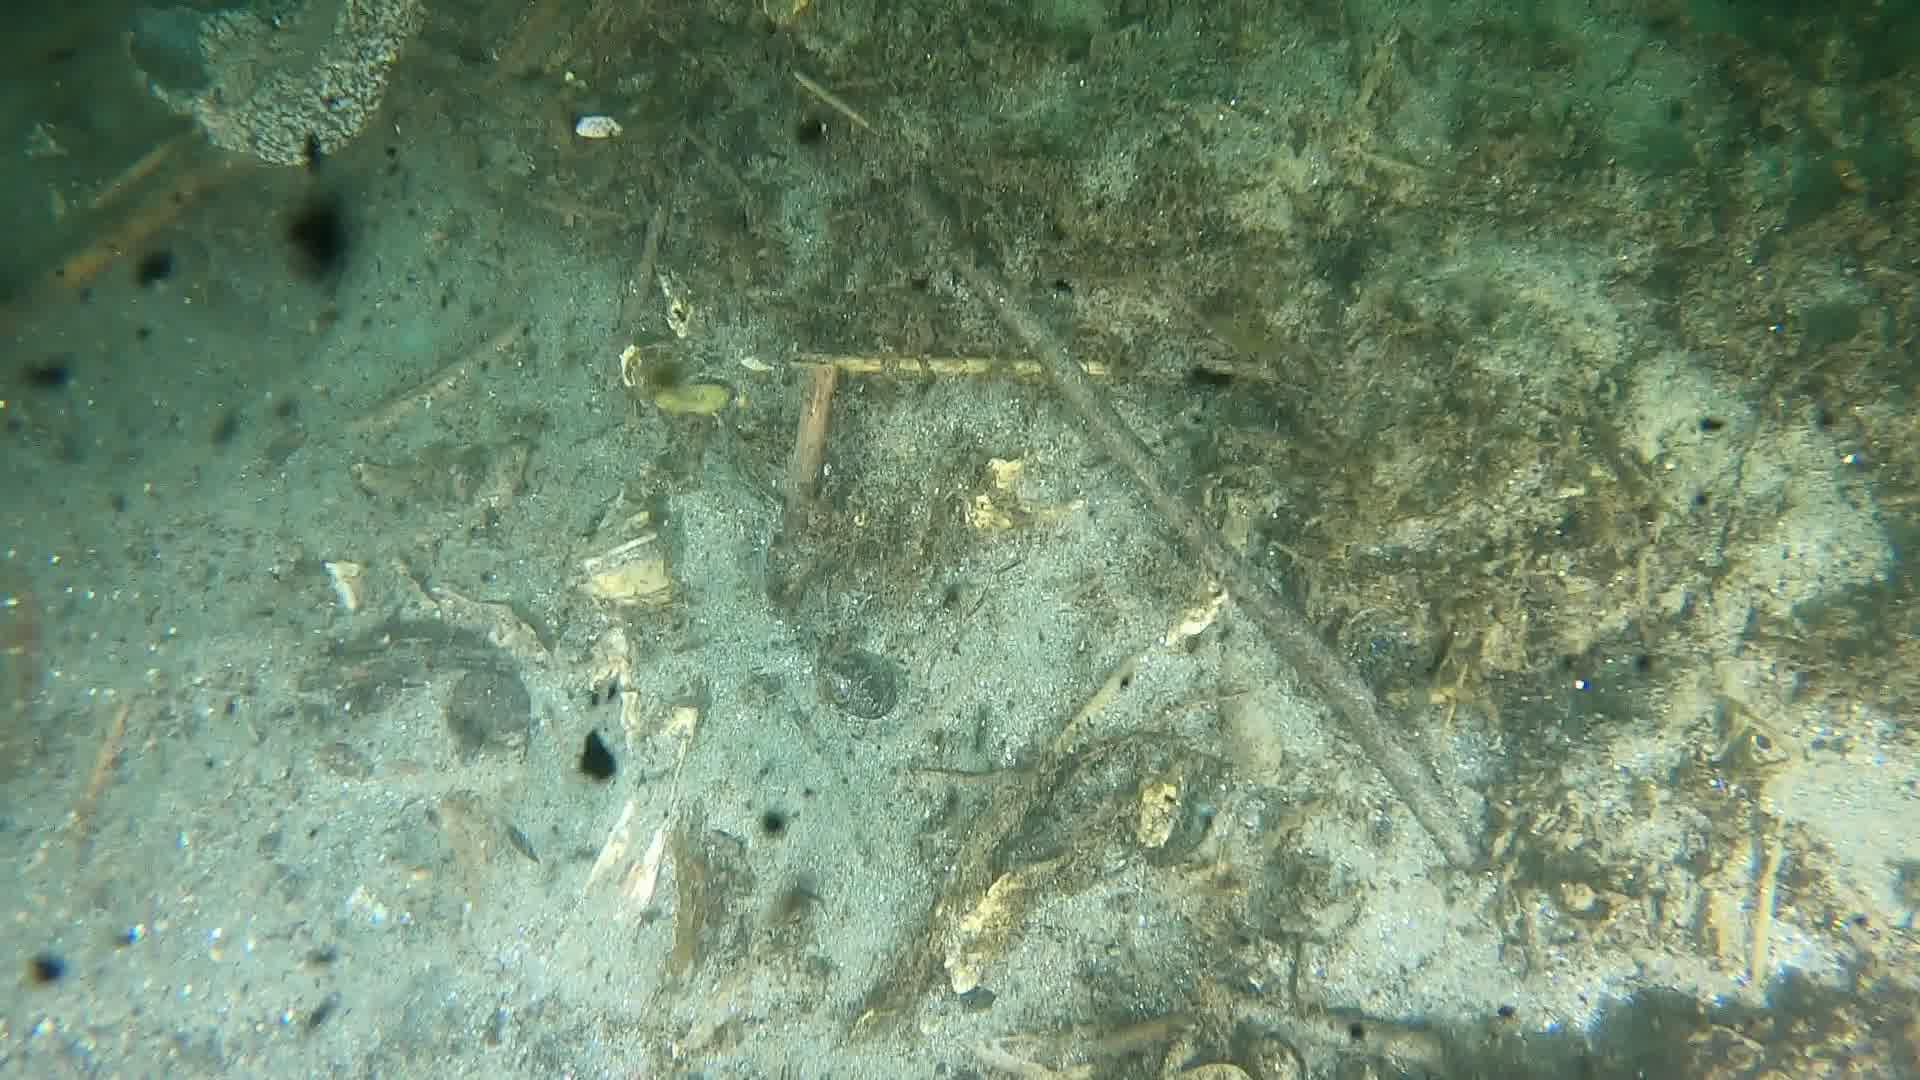wood: (905, 179, 1481, 874)
